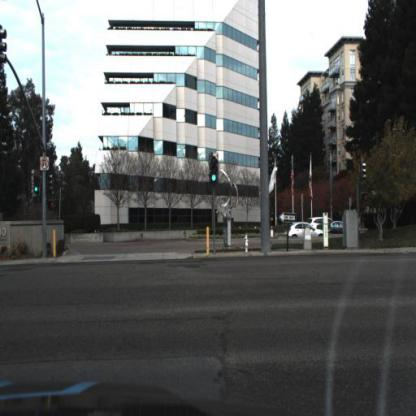car: (308, 214, 337, 237), (292, 224, 325, 242), (331, 219, 347, 239)
trafficLight-Green: (207, 147, 223, 196), (30, 172, 44, 204), (212, 157, 221, 184), (34, 177, 42, 196)
